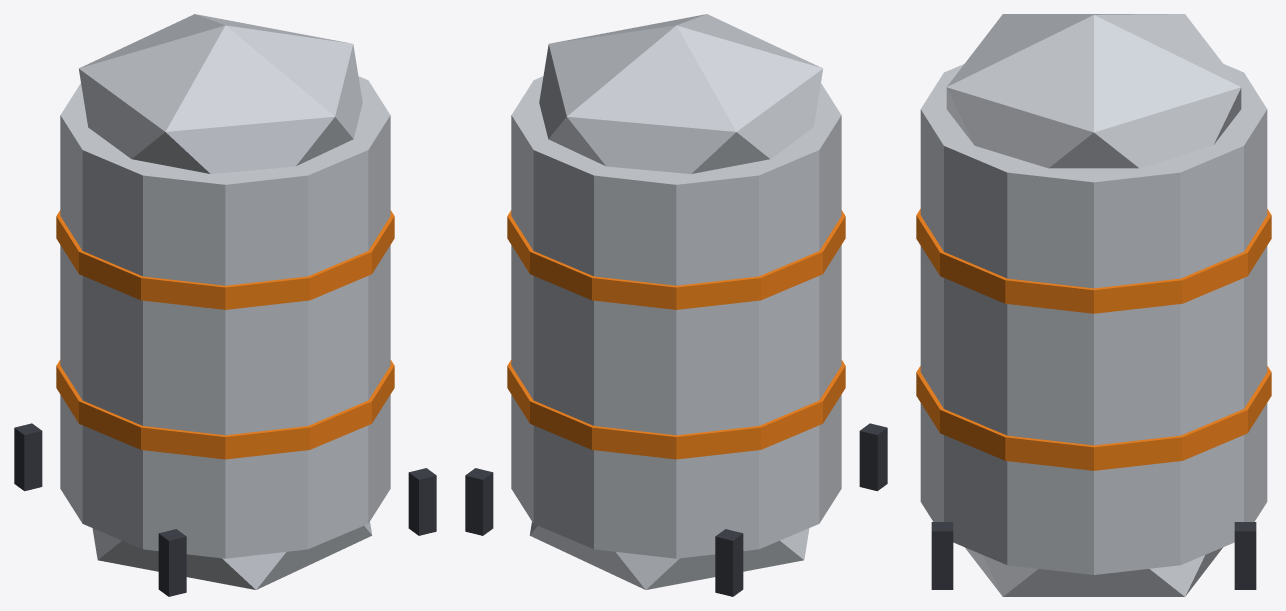
File: lowpoly-fuel_tank.glb
3 views of the same model, side by side, from view 1: azimuth 30°, elevation 25°; view 2: azimuth 150°, elevation 25°; view 3: azimuth 270°, elevation 25° (orthographic). The views are drawn at different scales.
Visible parts, largest first — view 1: fuel_tank; view 2: fuel_tank; view 3: fuel_tank.
Part boxes in pixels (x1,y1,x2,y2): fuel_tank: (14,14,436,596); fuel_tank: (465,14,887,596); fuel_tank: (916,14,1271,596).
Size of the model in its own units: 1.64 by 2.96 by 1.64.
